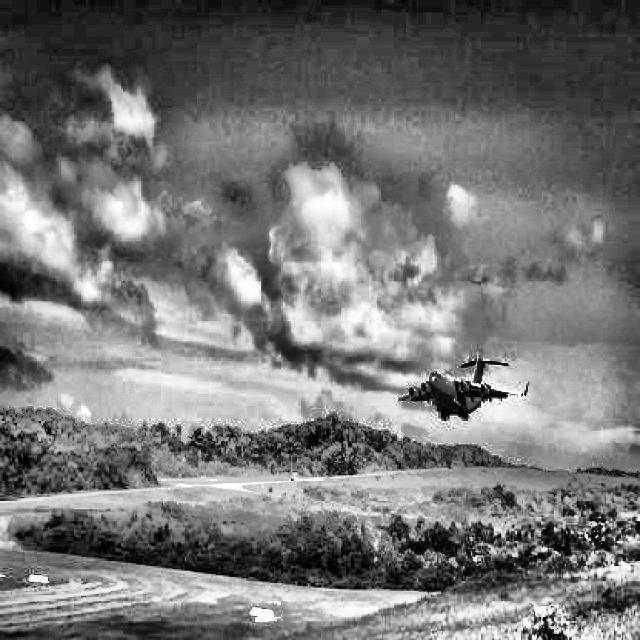C17: (397, 353, 529, 421)
